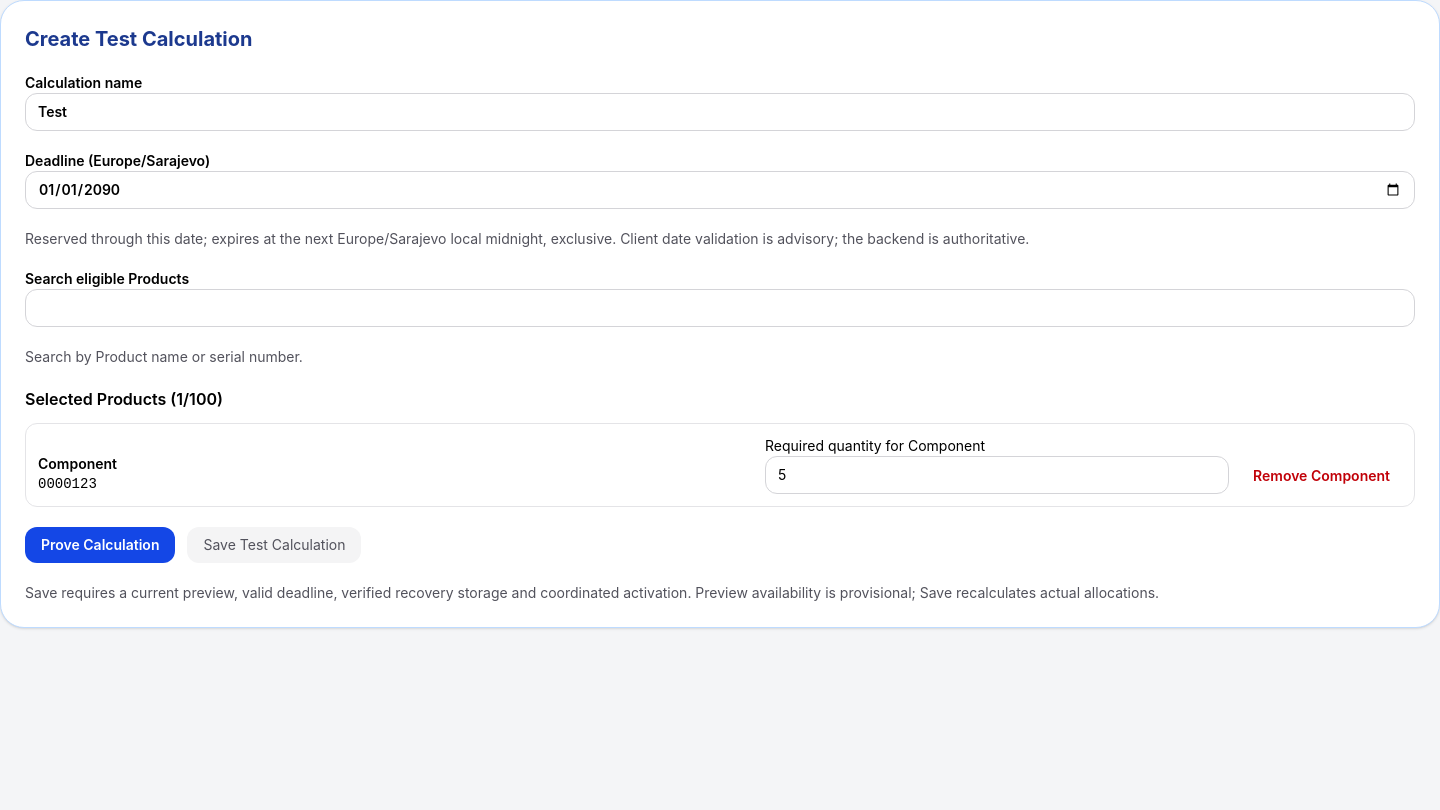
Test: Prove Calculation editor integration (mock services only) › clears old success and shows permission error without fabricated quantities
Click the button "Prove Calculation": (100, 545) top-left (25, 527), bottom-right (176, 563)
(page scrolled)
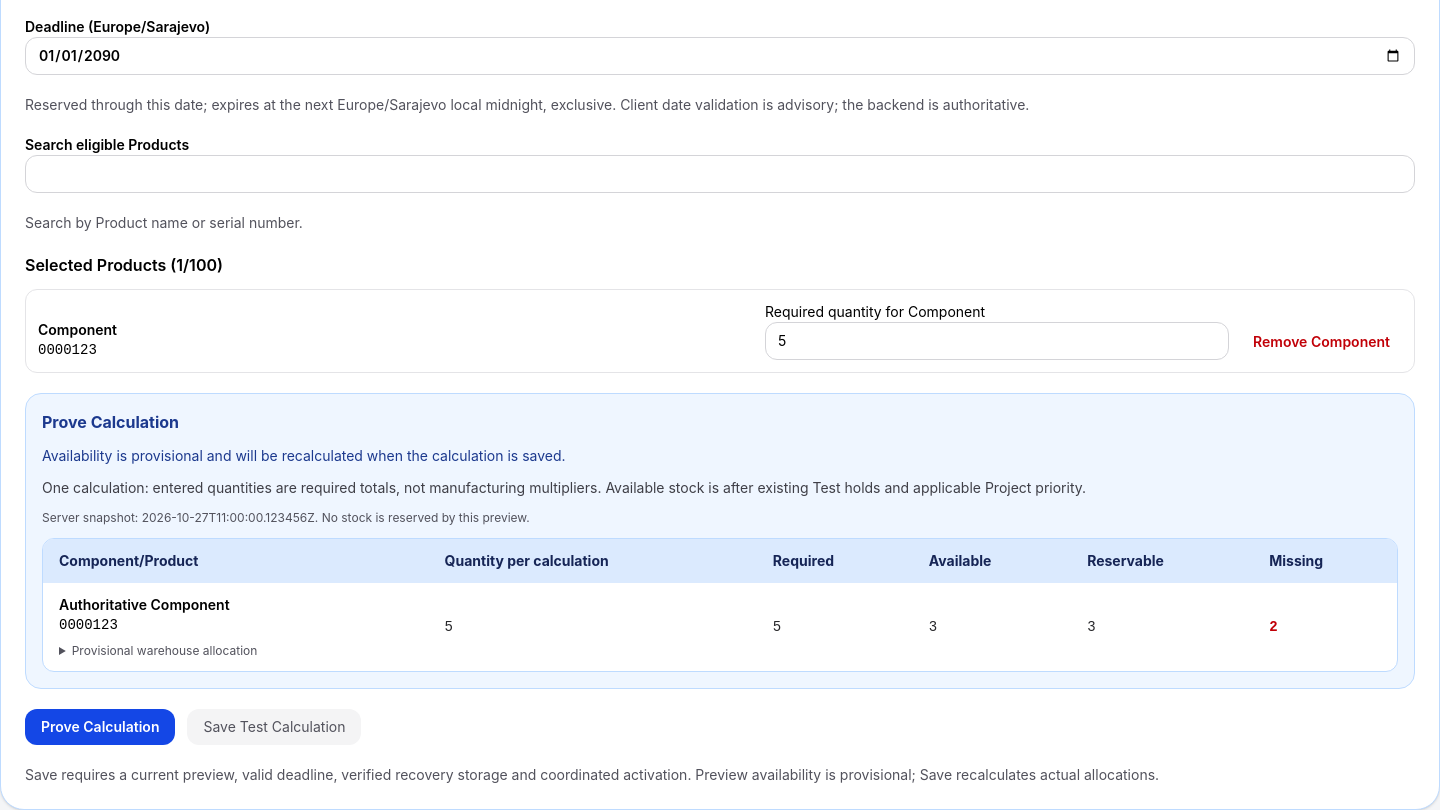
Now the element named "Test Calculation preview" is shown, box top-left (25, 393), bottom-right (1415, 689)
Click the button "Prove Calculation": (100, 727) top-left (25, 709), bottom-right (176, 745)
(page scrolled)
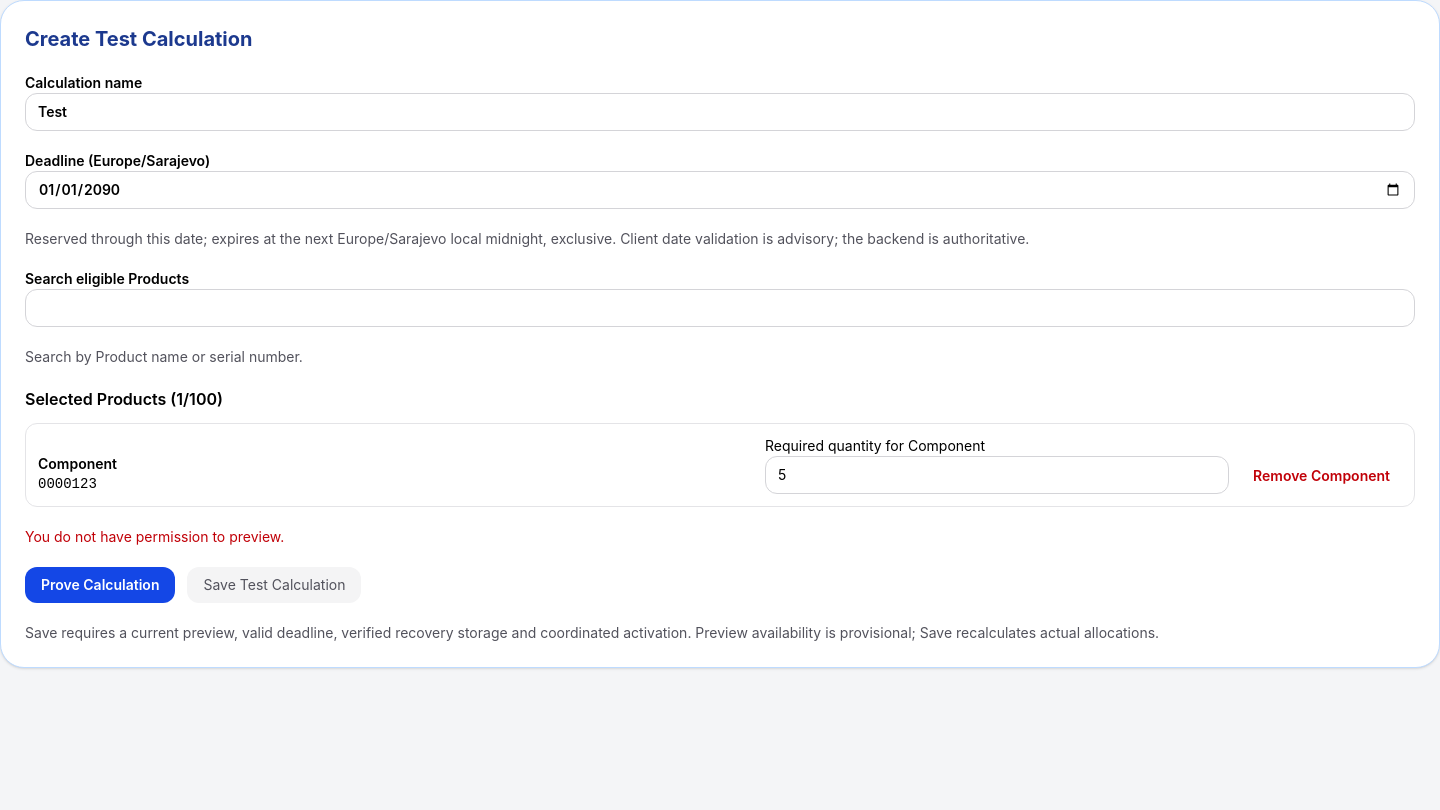
Expected: the message does not show "secret backend connection", top-left (25, 528), bottom-right (284, 545)
Now the message shows "do not have permission", box top-left (25, 528), bottom-right (284, 545)
